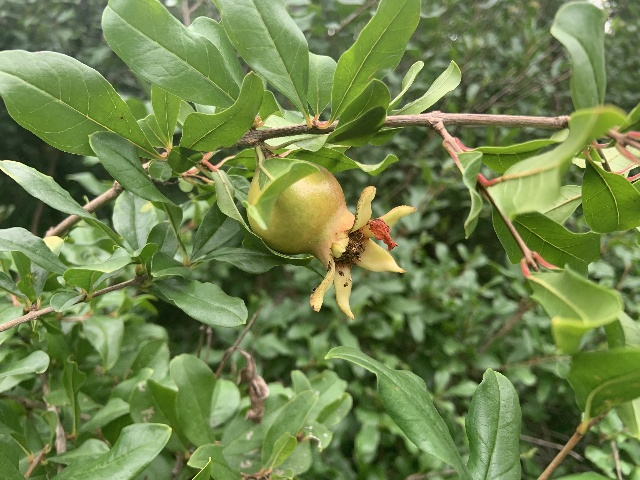early-fruit: (246, 157, 416, 320)
